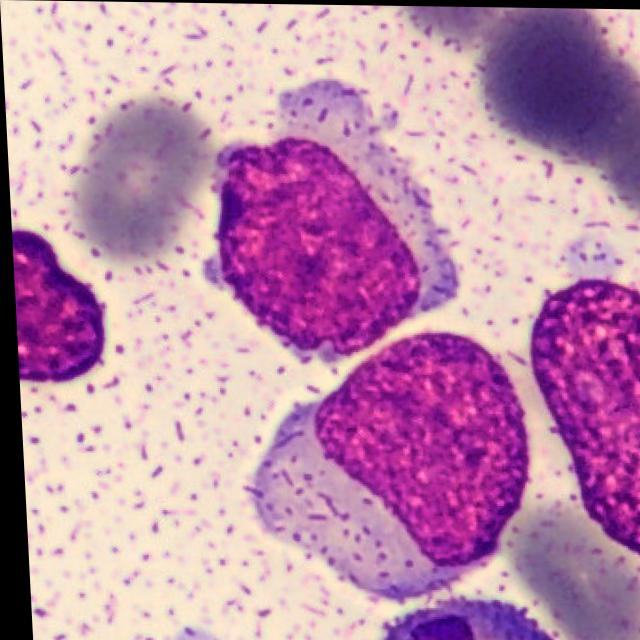Mieloblasto: (245, 334, 523, 597), (209, 80, 455, 355)
